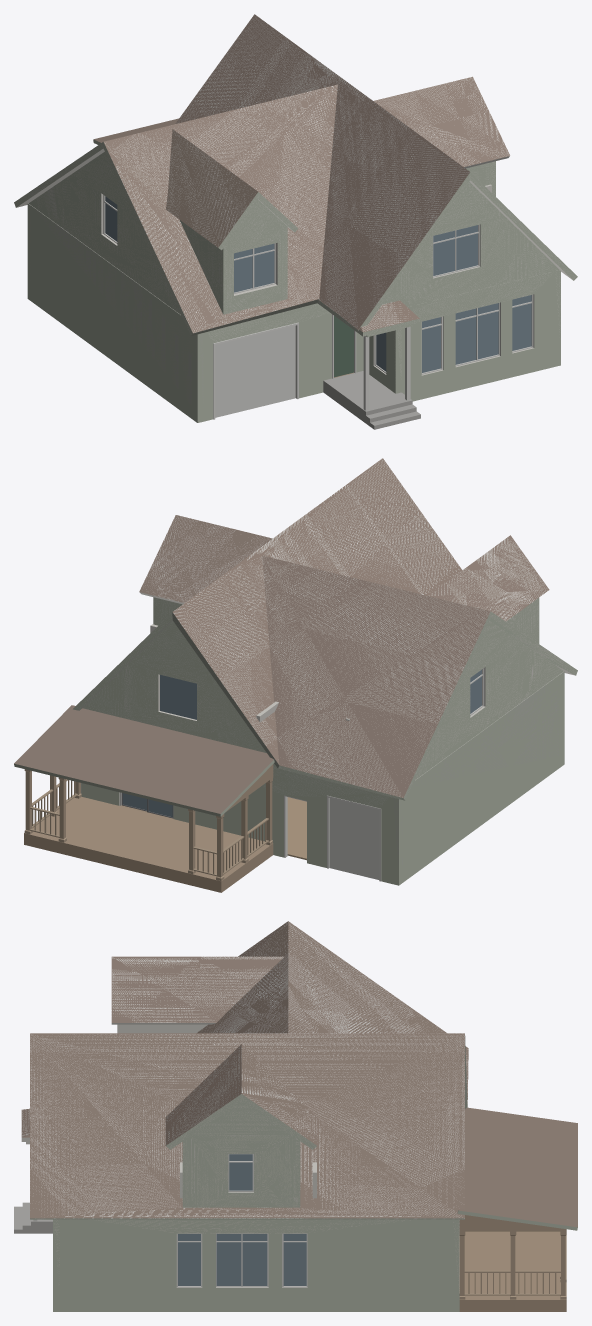
Rendered from house_sage.glb.
The picture shows the model from 3 angles, top to bottom: view 1: azimuth 30°, elevation 25°; view 2: azimuth 150°, elevation 25°; view 3: azimuth 270°, elevation 25°; orthographic projection. The views are drawn at different scales.
Visible parts, largest first — view 1: verda_house_sage; view 2: verda_house_sage; view 3: verda_house_sage.
Boxes of the visible parts, x1,y1,x2,y2 form: verda_house_sage: (14,14,577,429); verda_house_sage: (14,458,577,892); verda_house_sage: (14,921,577,1311).
Bounding box in the file's own units: 14.42 × 9.03 × 20.17.
